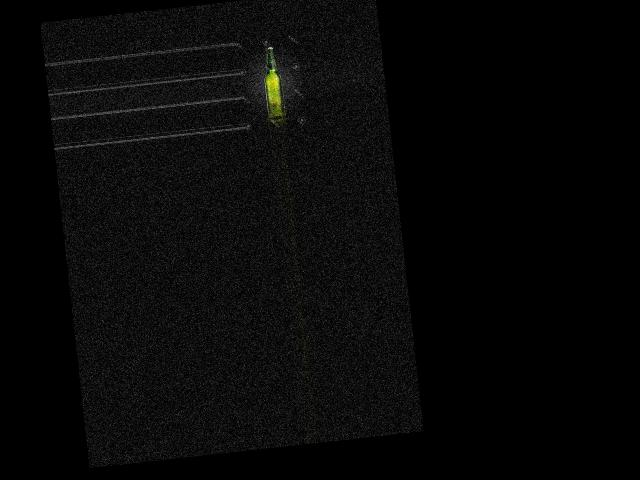beer: (260, 46, 285, 119)
